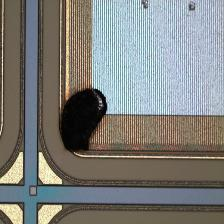PIQ PARTICLE: (42, 79, 122, 159)
